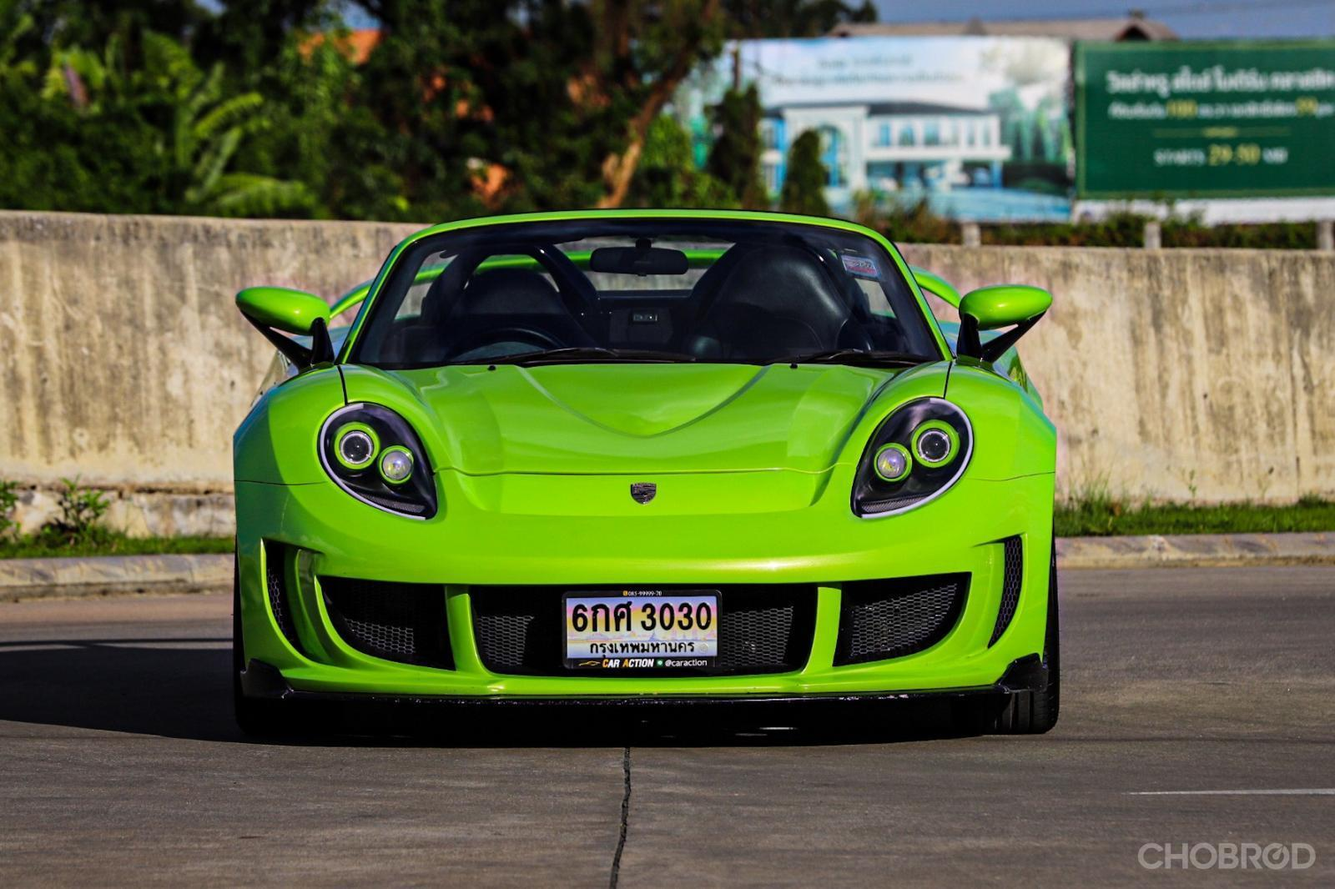license-plate: (559, 591, 720, 674)
